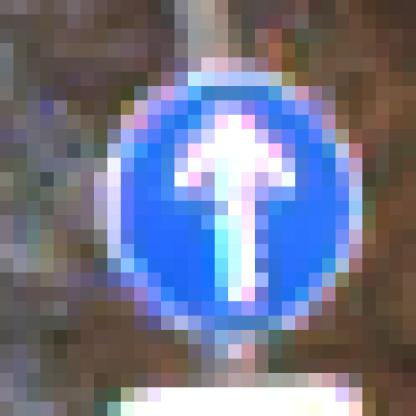AheadOnly: (81, 73, 350, 345)
